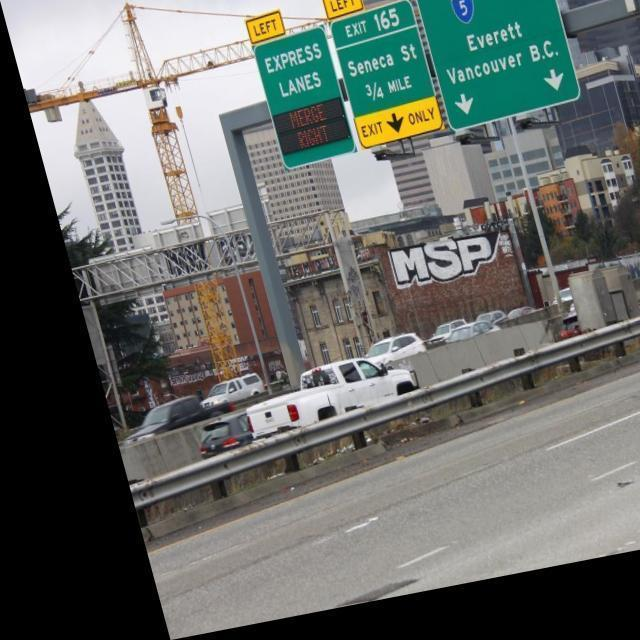nonspitting: (388, 233, 500, 291)
